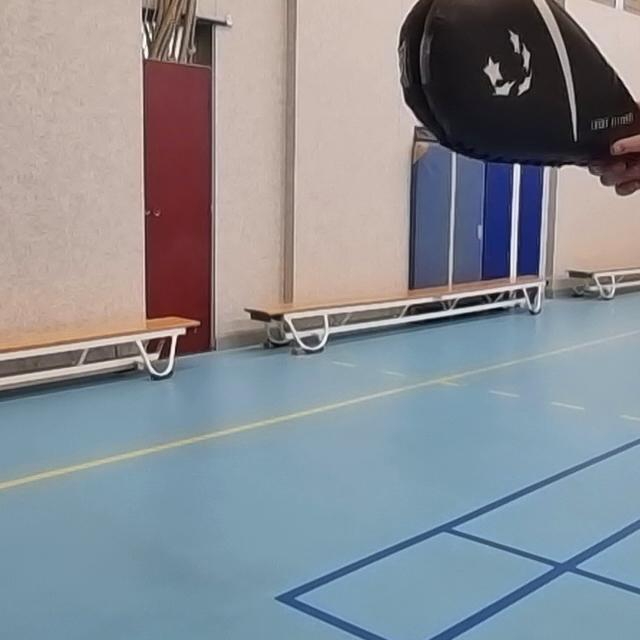paddle: (394, 0, 640, 172)
